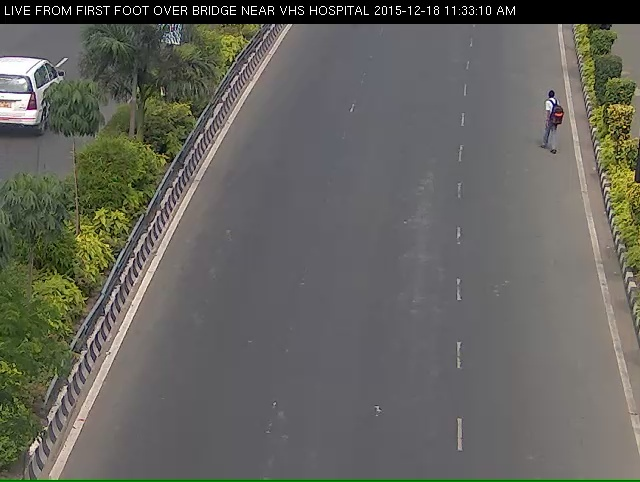Person: (538, 89, 572, 164)
